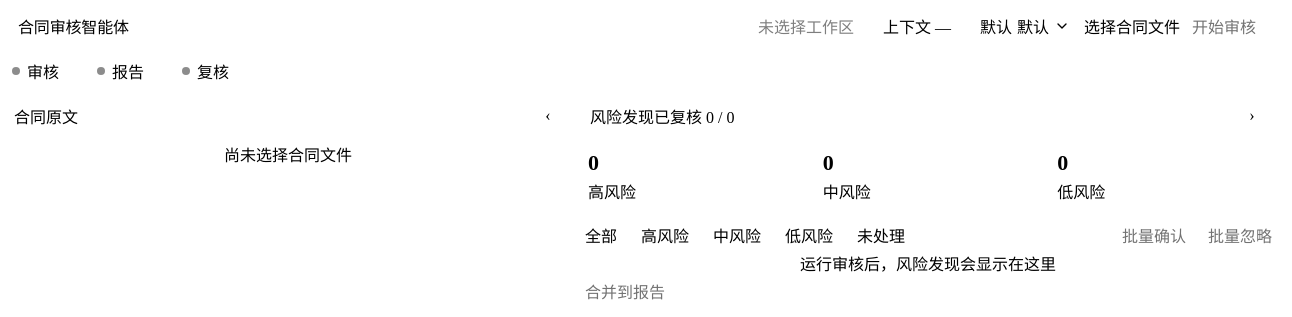
Scenario: ContractSurface › collapses the upload card into a compact file chip after choosing a file
Click the button with test id "upload". click: {"x": 1132, "y": 26}
box: [1078,13,1186,39]
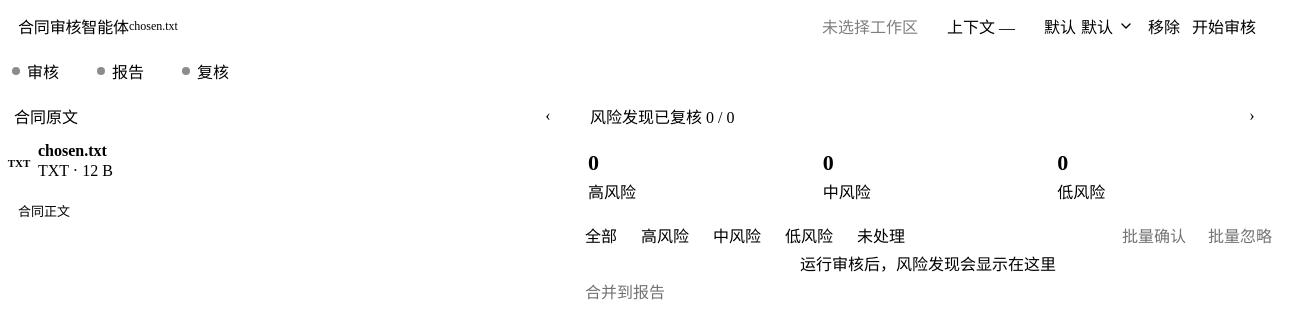
Result: the button with test id "remove-document" is shown at [1142,13,1186,39]
Result: the button with test id "upload" is gone
Result: the text "chosen.txt" next to "合同审核智能体" is shown at [129,18,178,32]
